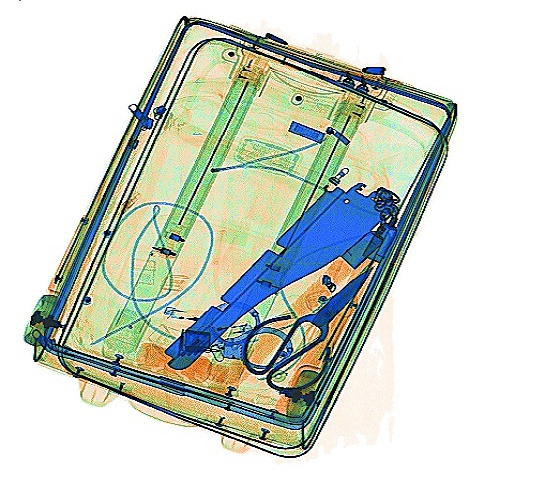handcuffs: (206, 297, 293, 370)
lighter: (163, 304, 214, 324), (201, 321, 252, 340)
scissors: (240, 261, 375, 396)
